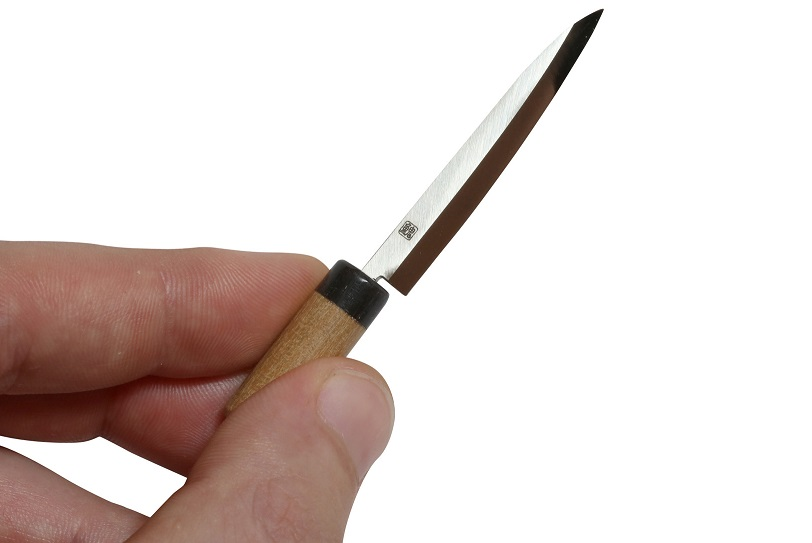knife: (231, 5, 611, 436)
